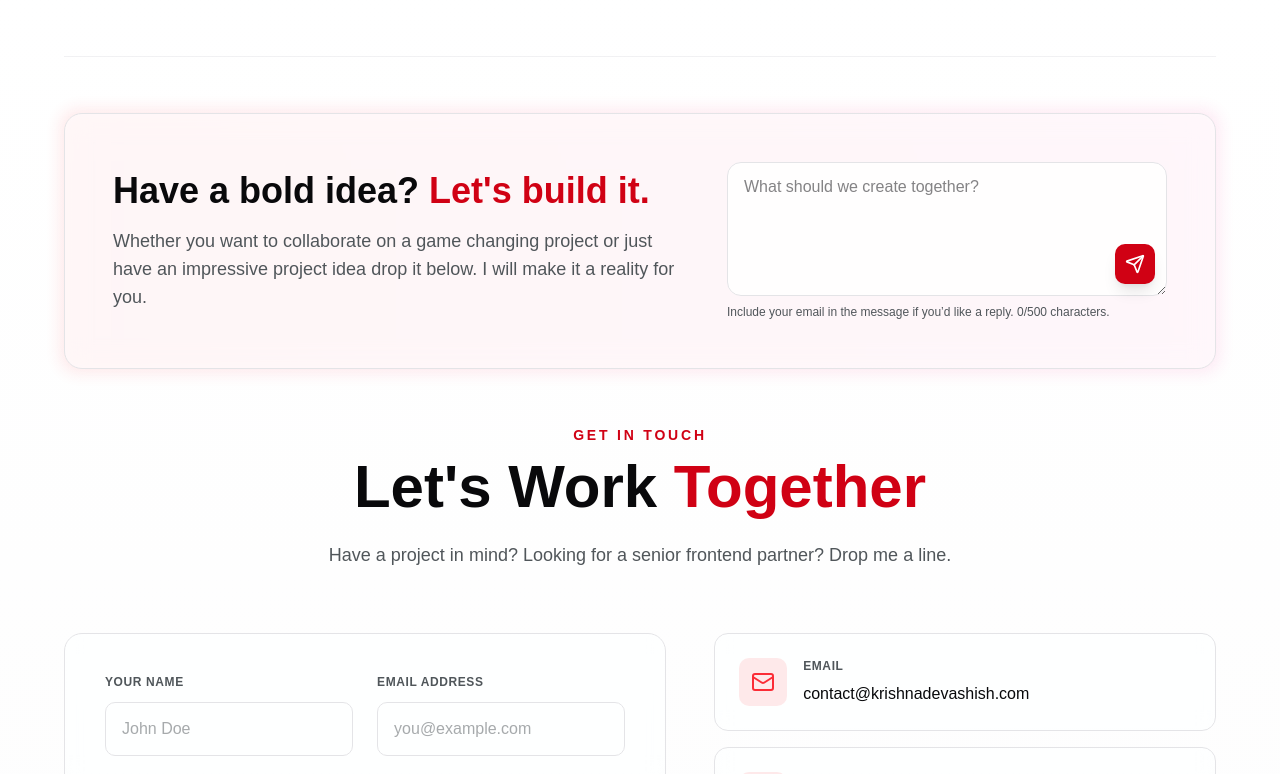
it: rejects a short message and allows the error to be cleared
Type "Test Visitor" into the field labelled "Your Name" at coordinates (229, 729), box left=105, top=702, right=353, bottom=756
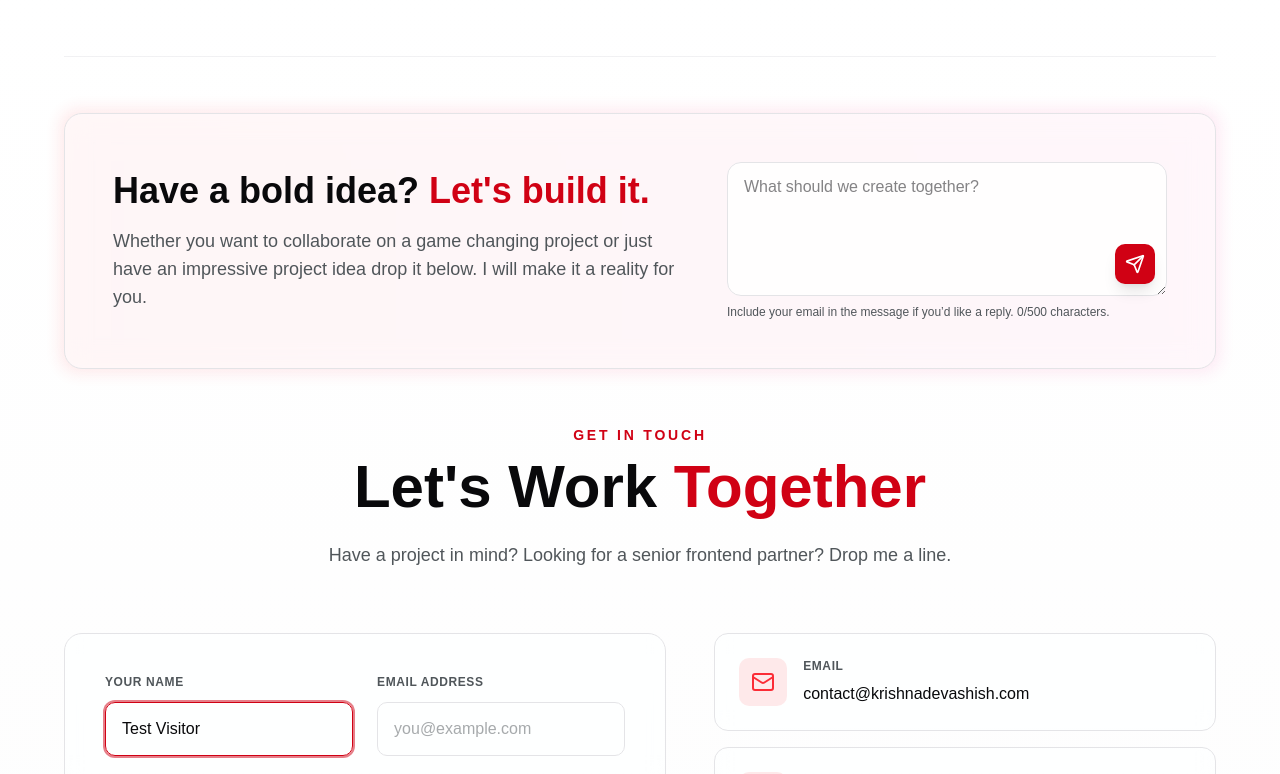
Type "visitor@example.com" into the field labelled "Email Address" at coordinates (501, 729), box left=377, top=702, right=625, bottom=756
(page scrolled)
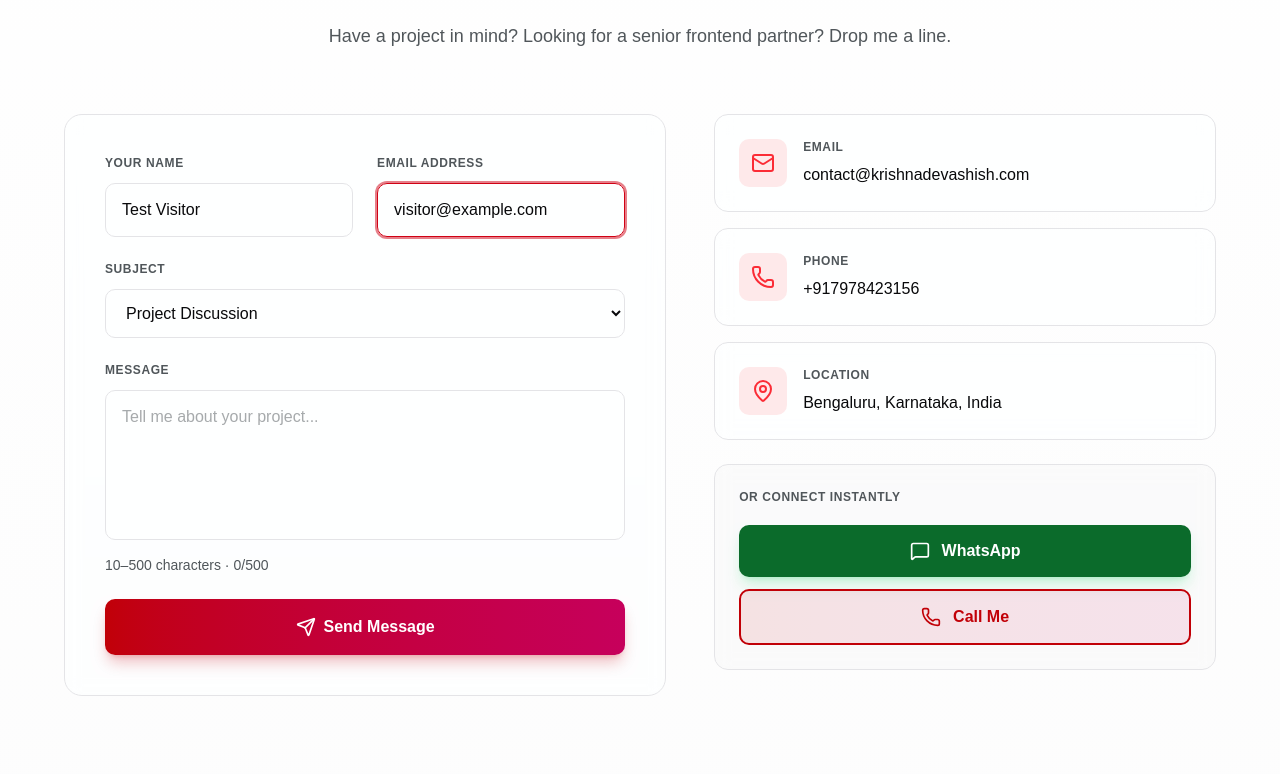
Type "short" into the text box labelled "Message" at coordinates (365, 465), box left=105, top=390, right=625, bottom=540
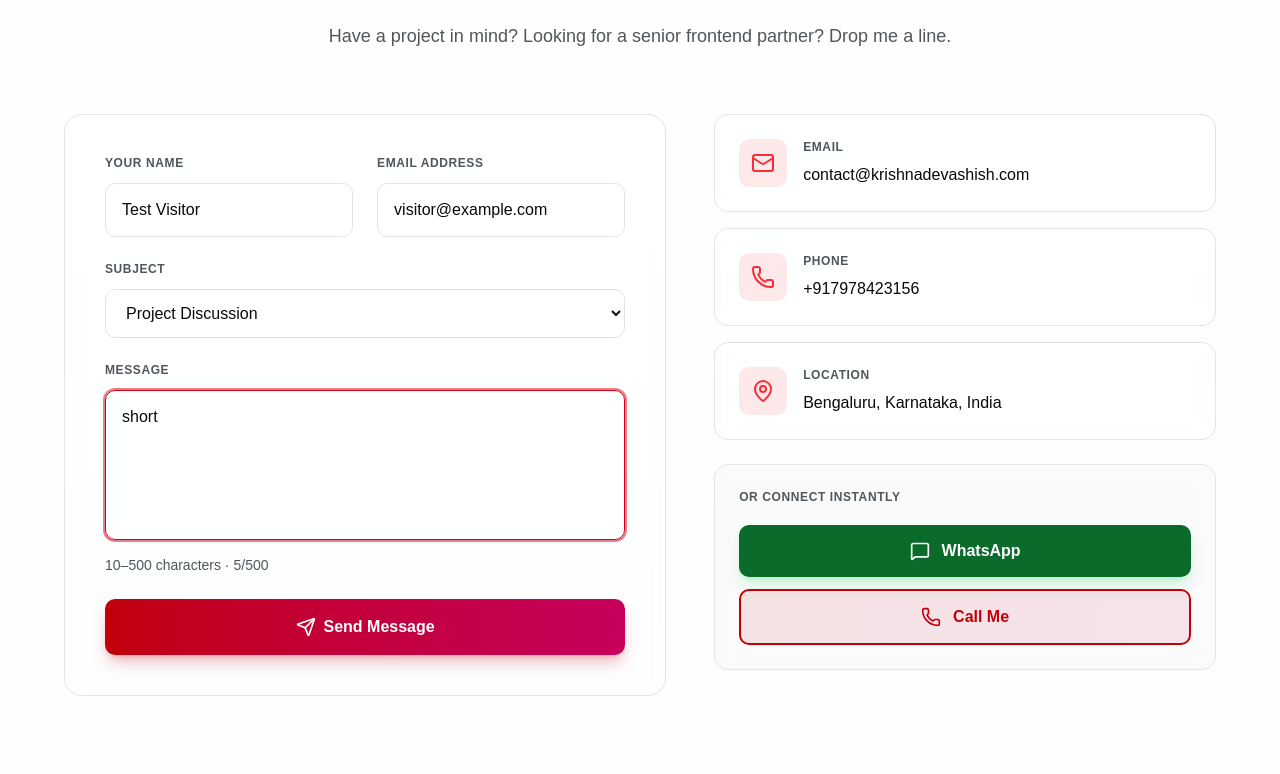
Click the button "Send Message" at coordinates (365, 627), box left=105, top=599, right=625, bottom=655
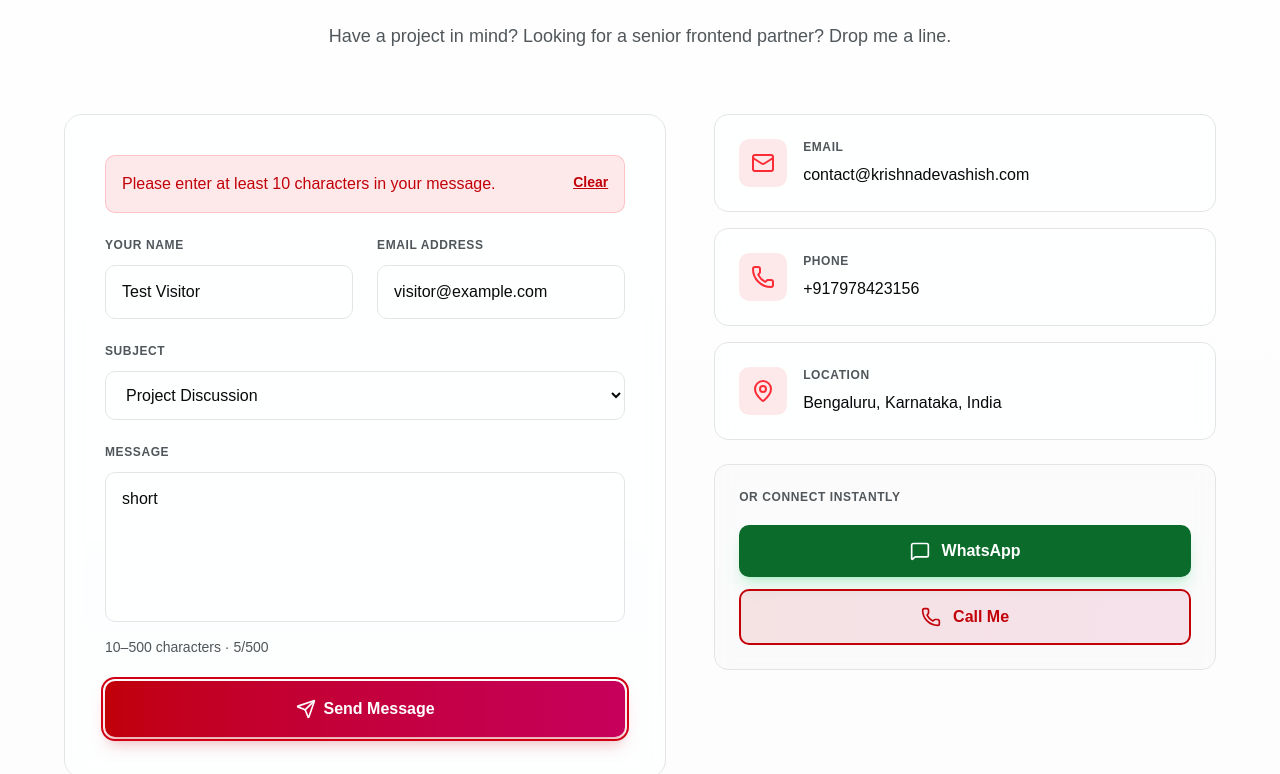
Now the message shows "at least 10", box left=122, top=175, right=496, bottom=192
Click the button with aria-label "Clear error message" at coordinates (591, 182), box left=573, top=172, right=608, bottom=192
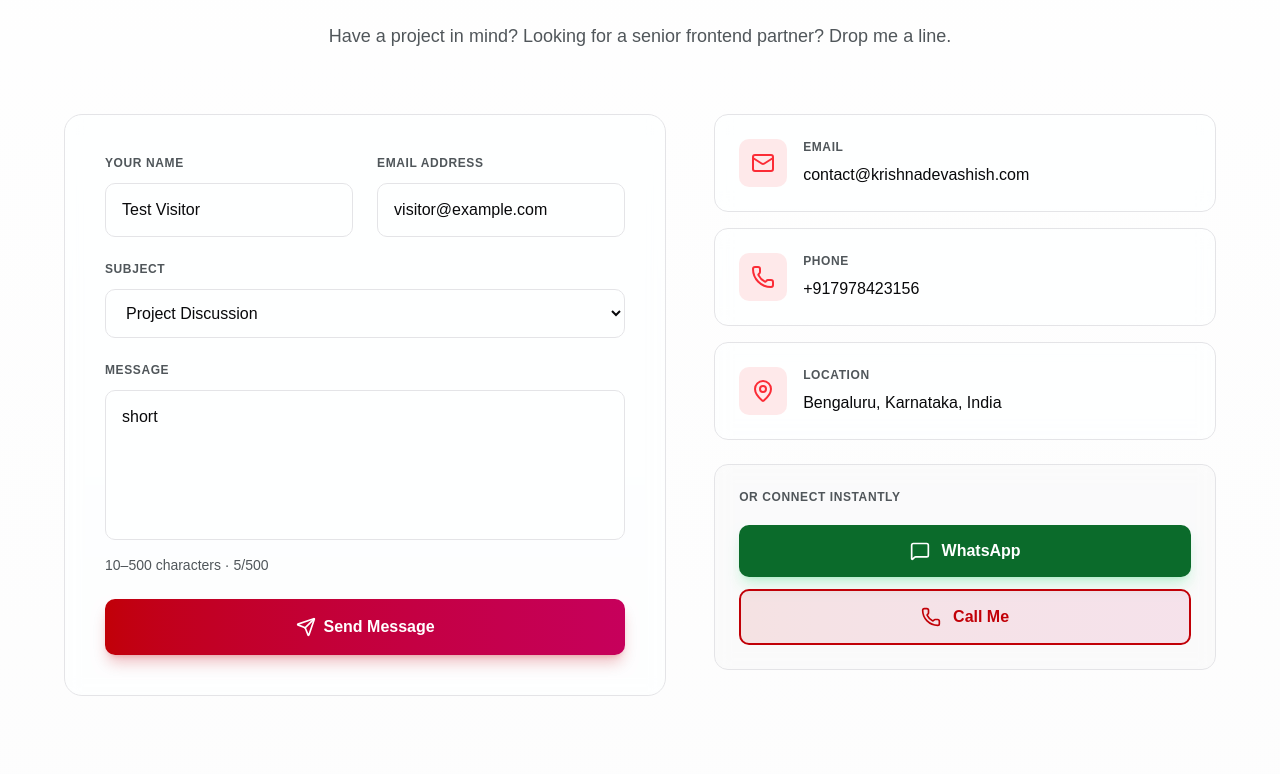
Now the message "Please enter at least 10 characters in your message." is gone
